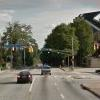Car: (15, 65, 34, 88)
